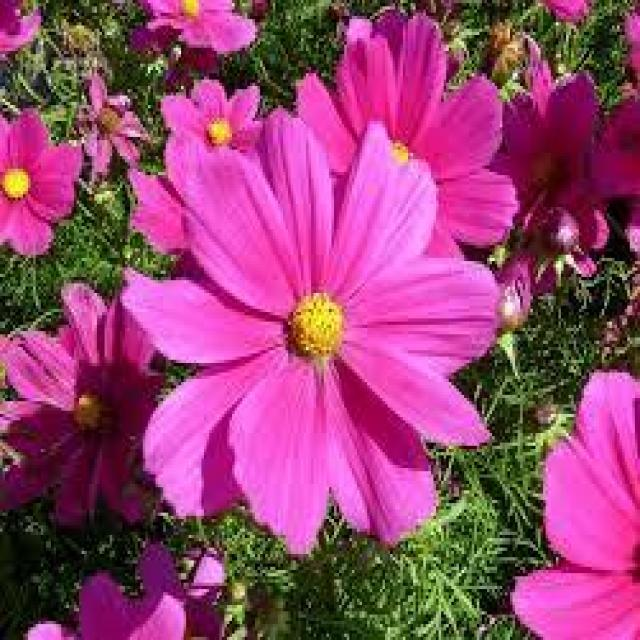organic waste: (134, 110, 486, 527), (298, 16, 518, 290), (12, 283, 160, 538), (478, 41, 636, 268), (515, 355, 638, 632), (4, 115, 83, 261), (150, 0, 262, 54)
